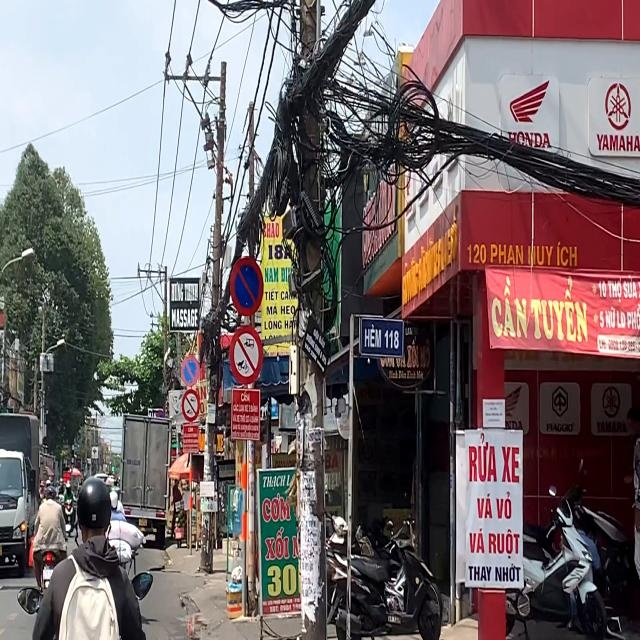bien_cam: (229, 256, 264, 316), (181, 355, 200, 386)
